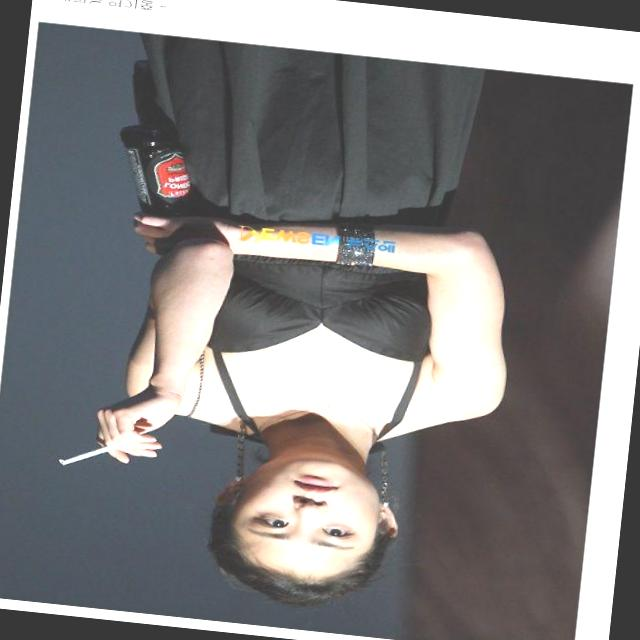cigarette: (57, 430, 132, 477)
